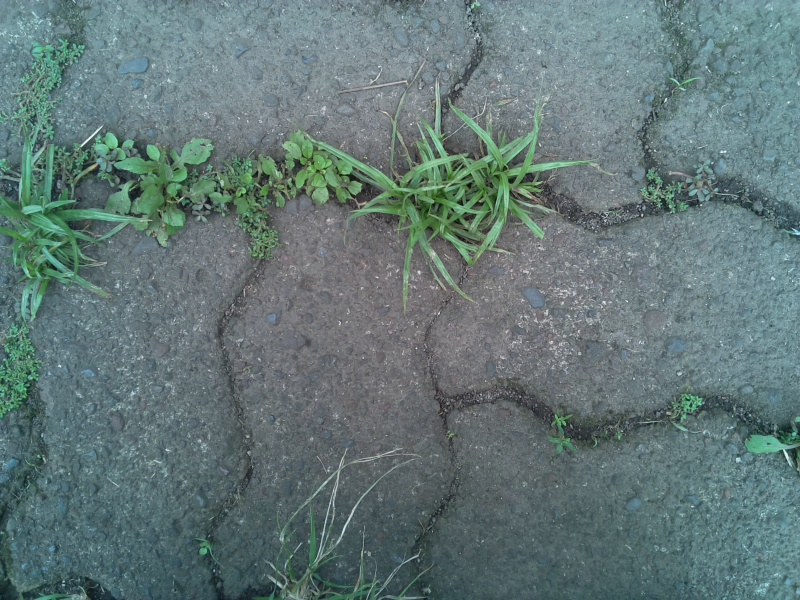Weed: (315, 127, 564, 282), (1, 138, 91, 309), (91, 133, 214, 241), (255, 129, 369, 215), (1, 42, 86, 140), (208, 158, 278, 260), (1, 320, 43, 415), (738, 414, 800, 470), (639, 158, 685, 217), (550, 410, 575, 461), (662, 71, 700, 104), (671, 389, 703, 426), (188, 534, 220, 569)
